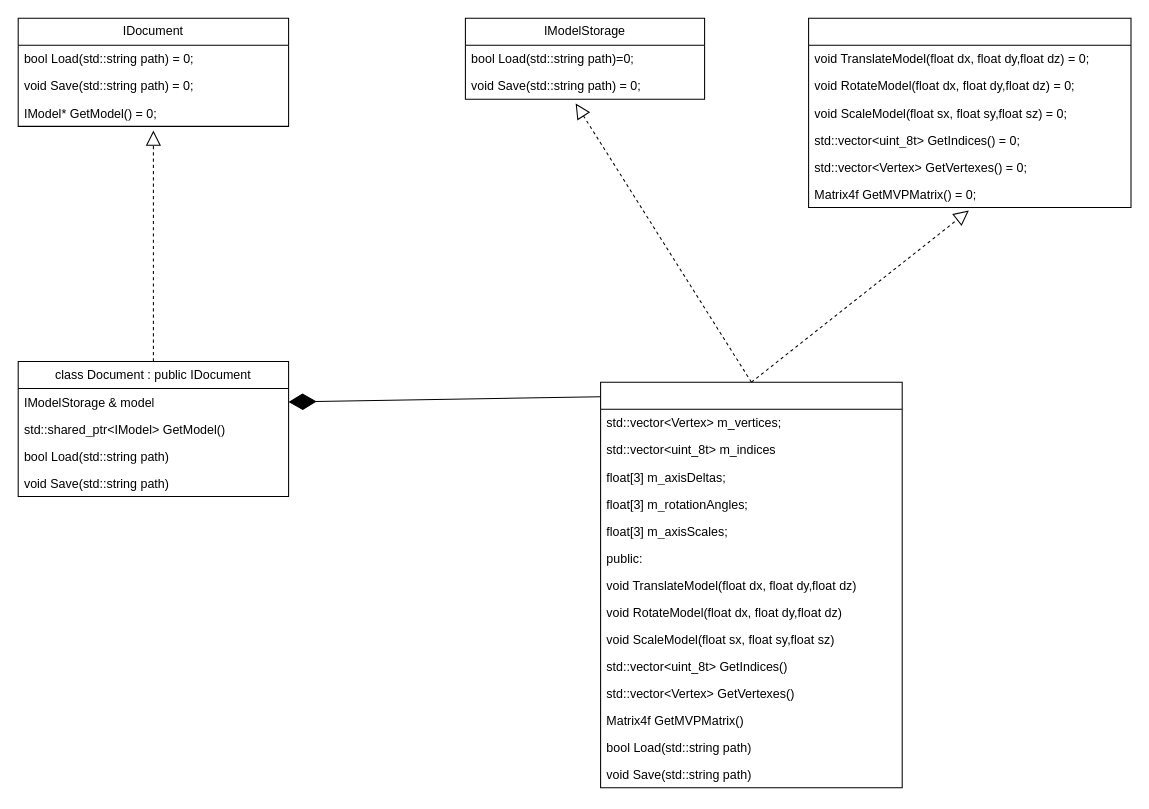
This 1149x809 diagram has some shape labels left out. The box of each missing label's shape, as (x1, y1, x2, y2) in pixels:
class Model : public IModel, IModelStorage: (600, 381, 902, 788)
IModel: (808, 17, 1131, 207)
